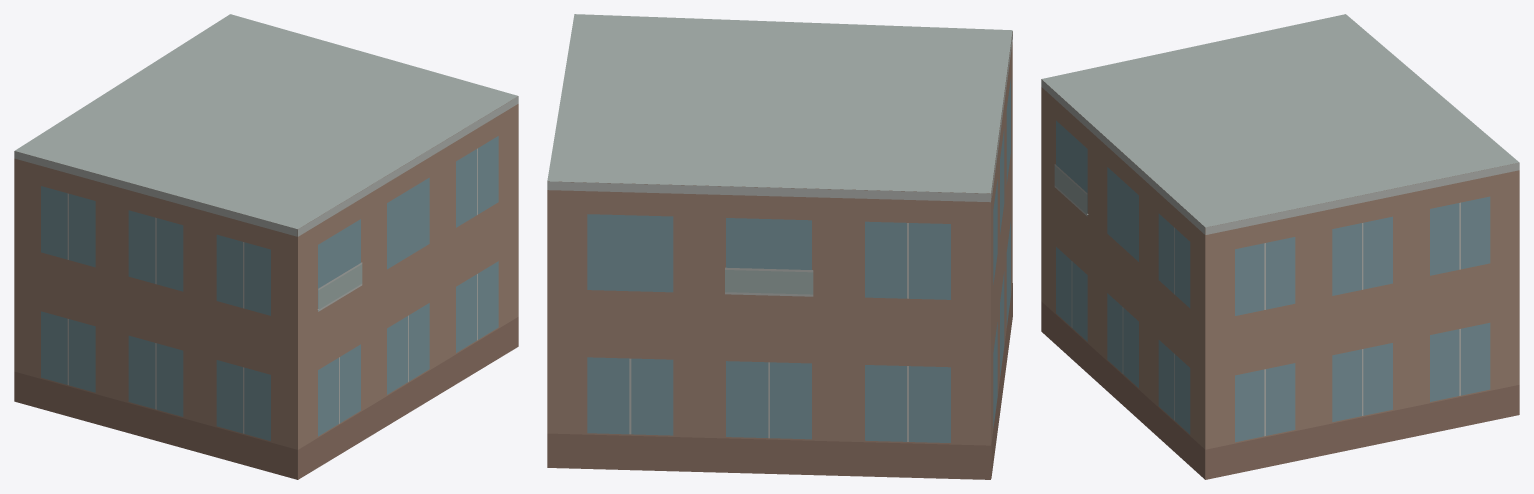
The model's file is survey-upis-32973263.glb.
3 renders of one model, left to right at view 1: azimuth 30°, elevation 25°; view 2: azimuth 150°, elevation 25°; view 3: azimuth 270°, elevation 25°, orthographic. The views are drawn at different scales.
Visible parts, largest first — view 1: survey-upis-32973263.tmp; view 2: survey-upis-32973263.tmp; view 3: survey-upis-32973263.tmp.
Part boxes in pixels (box(x1,y1,x2,y2)): survey-upis-32973263.tmp: box(14, 14, 518, 479); survey-upis-32973263.tmp: box(547, 14, 1012, 479); survey-upis-32973263.tmp: box(1041, 14, 1519, 479).
Bounding box in the file's own units: 14.52 × 8 × 13.75.
